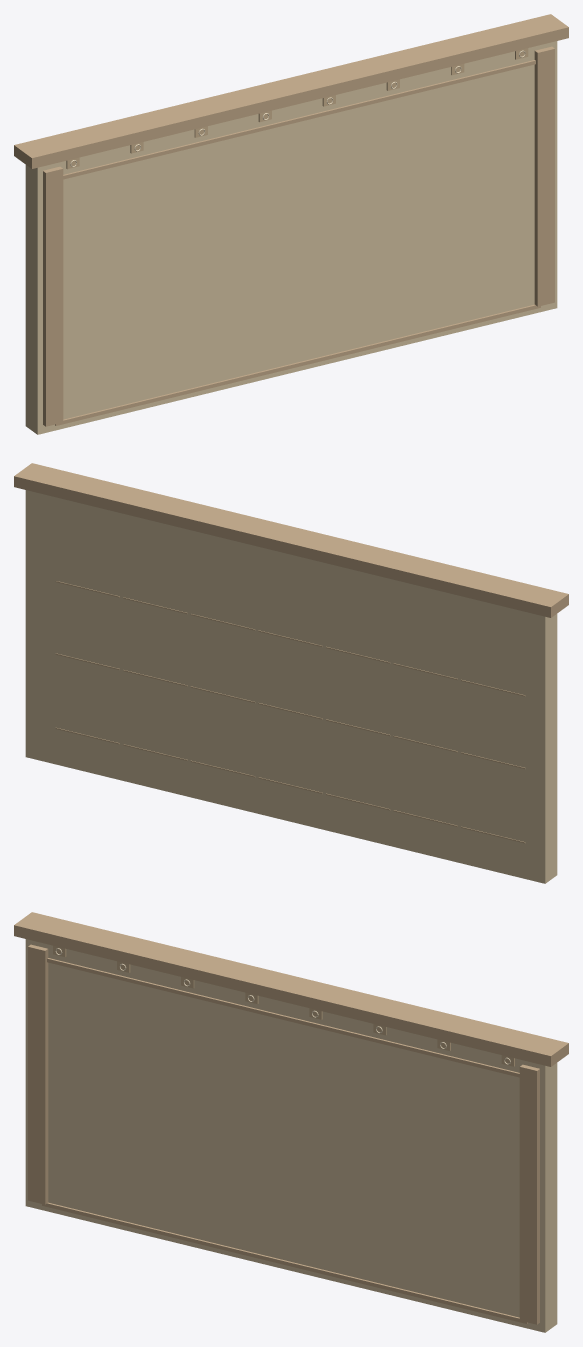
Rendered from pared_arenisca.glb.
The picture shows the model from 3 angles, top to bottom: view 1: azimuth 30°, elevation 25°; view 2: azimuth 150°, elevation 25°; view 3: azimuth 330°, elevation 25°; orthographic projection.
Parts seen in each view (by area): view 1: pared_arenisca; view 2: pared_arenisca; view 3: pared_arenisca.
Boxes of the visible parts, x1,y1,x2,y2 form: pared_arenisca: [14, 14, 568, 434]; pared_arenisca: [14, 463, 568, 883]; pared_arenisca: [14, 912, 568, 1332].
Bounding box in the file's own units: 31 × 15.5 × 1.8.
